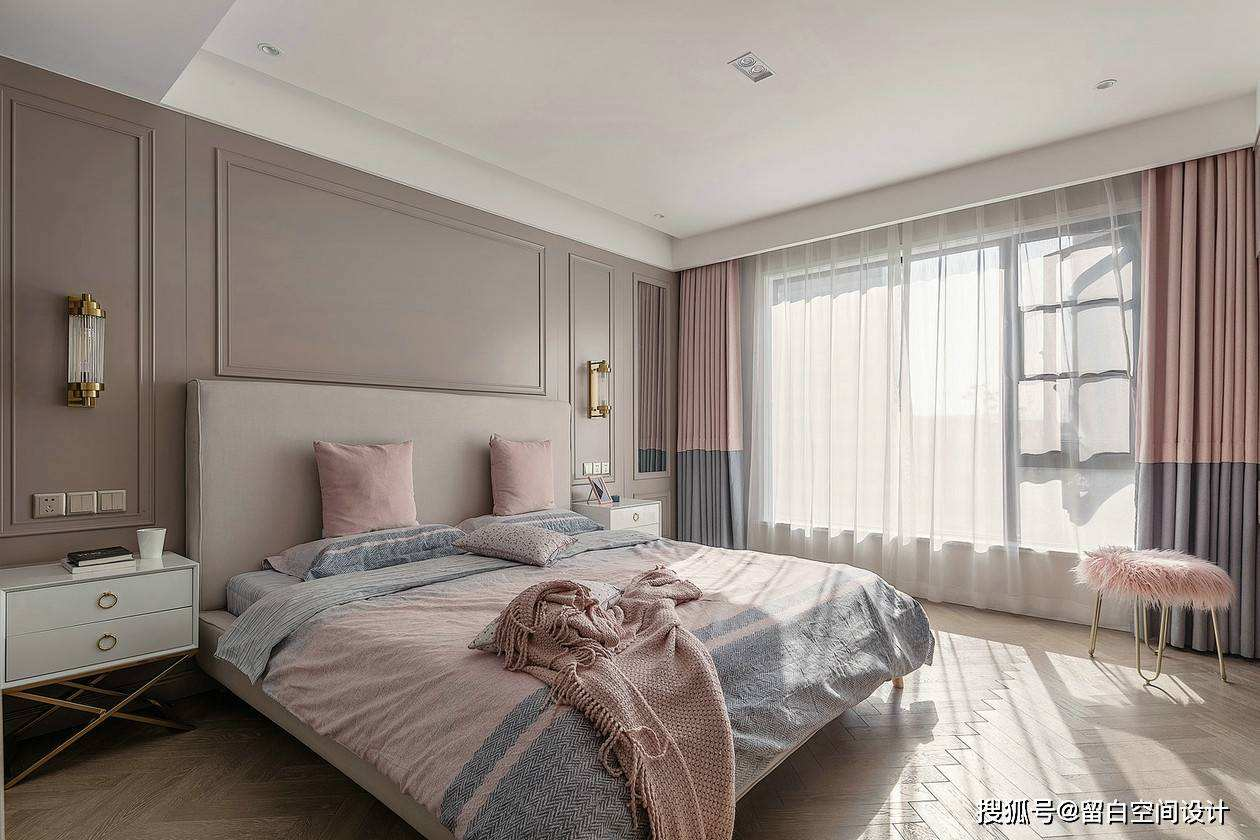床: (188, 537, 925, 815)
枕头: (257, 515, 637, 581), (301, 440, 419, 534), (476, 429, 560, 522)
灯: (55, 287, 110, 411), (723, 50, 775, 84), (251, 41, 288, 62), (1083, 74, 1114, 98)
